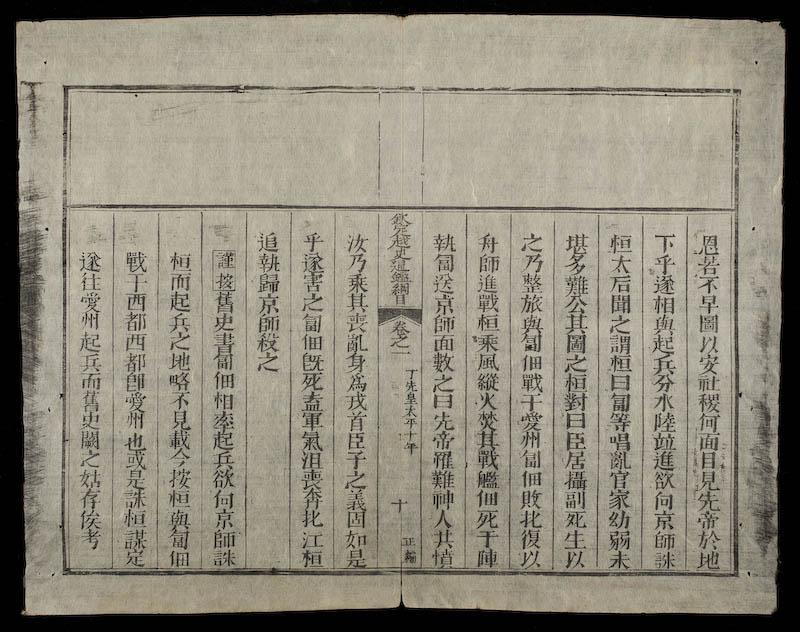c: (518, 324, 546, 352), (211, 332, 237, 362), (562, 231, 591, 257), (693, 232, 722, 255), (253, 229, 282, 252), (606, 231, 635, 254), (122, 249, 149, 273), (562, 310, 590, 333), (471, 332, 501, 353), (122, 446, 149, 469), (342, 488, 369, 511), (211, 246, 238, 269), (121, 528, 149, 550), (254, 352, 282, 374), (166, 467, 194, 489), (76, 249, 104, 271), (562, 275, 590, 297), (694, 392, 723, 413), (120, 488, 149, 509), (78, 529, 103, 553), (387, 283, 414, 305), (76, 508, 103, 530), (166, 509, 193, 531), (166, 249, 193, 271), (76, 330, 103, 352), (651, 411, 678, 433), (518, 272, 545, 294), (209, 548, 240, 567), (694, 549, 722, 570), (650, 449, 678, 470), (693, 469, 721, 490), (694, 528, 722, 549), (605, 529, 633, 550), (694, 255, 722, 276), (209, 468, 237, 489), (298, 251, 326, 272), (298, 468, 326, 489), (694, 490, 722, 511), (298, 528, 326, 549), (254, 252, 282, 273), (298, 548, 327, 568), (120, 508, 149, 528), (212, 290, 237, 313), (77, 408, 103, 430), (343, 231, 369, 253), (431, 293, 457, 315), (652, 231, 678, 253), (607, 293, 633, 315), (650, 469, 677, 490), (122, 468, 149, 489), (76, 352, 103, 373), (210, 429, 237, 450), (166, 429, 193, 450), (298, 430, 325, 451), (430, 231, 457, 252), (650, 354, 677, 375), (606, 488, 633, 509), (77, 271, 104, 292), (299, 391, 326, 412), (695, 353, 722, 374), (695, 293, 722, 314), (299, 230, 326, 251), (562, 469, 589, 490), (299, 351, 326, 372), (474, 508, 501, 529), (429, 469, 456, 490), (474, 449, 501, 470), (430, 352, 457, 373), (518, 293, 545, 314), (165, 488, 193, 508), (298, 508, 326, 528), (210, 529, 238, 549), (605, 550, 634, 569), (78, 389, 103, 411), (475, 231, 500, 253), (299, 487, 325, 508), (562, 528, 588, 549), (167, 409, 193, 430), (122, 352, 148, 373), (211, 508, 237, 529), (518, 488, 544, 509), (255, 293, 281, 314), (519, 231, 545, 252), (519, 372, 545, 393), (431, 273, 457, 294), (342, 469, 369, 489), (650, 334, 677, 354), (606, 469, 633, 489), (299, 272, 326, 292), (606, 509, 633, 529), (429, 489, 456, 509), (474, 528, 501, 548), (166, 371, 193, 391), (606, 334, 633, 354), (607, 254, 634, 274), (254, 333, 281, 353), (76, 488, 103, 508), (606, 431, 633, 451), (606, 450, 633, 470), (695, 412, 722, 432), (76, 468, 103, 488), (650, 254, 677, 274), (210, 488, 237, 508), (562, 489, 589, 509), (651, 274, 678, 294), (562, 391, 589, 411), (255, 273, 282, 293), (694, 510, 722, 529), (650, 295, 678, 314), (167, 528, 192, 549), (563, 430, 588, 451), (77, 429, 102, 450), (122, 391, 147, 412), (519, 448, 544, 469), (518, 528, 543, 549), (475, 410, 500, 431), (476, 253, 501, 274), (167, 291, 192, 312), (651, 314, 677, 334), (563, 254, 589, 274), (430, 548, 456, 568), (123, 292, 149, 312), (519, 252, 545, 272), (343, 333, 369, 353), (210, 410, 236, 430), (122, 372, 148, 392), (122, 332, 148, 352), (299, 293, 325, 313), (166, 351, 192, 371), (518, 411, 544, 431), (474, 548, 500, 568), (563, 333, 589, 353), (343, 548, 369, 568), (607, 412, 633, 432), (651, 510, 677, 530), (562, 549, 588, 569), (431, 252, 457, 272), (607, 392, 633, 412), (166, 312, 192, 332), (123, 311, 149, 331), (475, 293, 501, 313), (343, 313, 369, 333), (695, 432, 722, 451), (474, 489, 501, 508), (299, 372, 326, 391), (651, 550, 678, 569), (342, 529, 369, 548), (210, 449, 237, 468), (298, 450, 325, 469), (562, 354, 589, 373), (474, 313, 501, 332), (606, 354, 634, 372), (344, 411, 368, 432), (650, 432, 678, 450), (694, 374, 722, 392), (694, 276, 722, 294), (78, 292, 103, 312), (122, 431, 147, 451), (212, 271, 237, 291), (431, 528, 456, 548), (211, 370, 236, 390), (299, 313, 324, 333), (651, 490, 676, 510), (696, 313, 721, 333), (343, 353, 368, 373), (211, 390, 236, 410), (431, 411, 456, 431), (344, 273, 369, 293), (122, 548, 148, 567), (474, 430, 500, 449), (607, 315, 633, 334), (562, 450, 588, 469), (431, 315, 457, 334), (166, 332, 192, 351), (517, 549, 543, 568), (607, 274, 633, 293), (562, 509, 588, 528), (167, 272, 193, 291), (255, 314, 281, 333), (519, 353, 545, 372), (519, 469, 545, 488), (299, 410, 325, 429), (167, 549, 193, 568), (651, 392, 677, 411), (123, 273, 149, 292), (563, 411, 589, 430), (607, 372, 633, 391), (518, 509, 544, 528), (343, 392, 369, 411), (475, 352, 501, 371), (430, 374, 456, 393), (430, 450, 456, 469), (475, 372, 501, 391), (562, 373, 589, 391), (518, 393, 545, 411), (79, 309, 102, 330), (476, 273, 500, 293), (696, 334, 721, 353), (343, 450, 368, 469), (343, 509, 368, 528), (344, 253, 369, 272), (475, 470, 500, 489), (211, 313, 236, 332), (344, 293, 369, 312), (430, 431, 455, 450), (518, 316, 544, 334), (651, 374, 677, 392), (651, 531, 677, 549), (167, 449, 193, 467), (431, 334, 457, 352), (77, 373, 104, 390), (696, 450, 720, 469), (344, 432, 368, 451), (123, 410, 147, 429), (431, 509, 455, 528), (344, 373, 368, 392), (300, 333, 325, 351), (431, 392, 456, 410), (167, 391, 192, 409), (77, 450, 102, 468), (518, 430, 543, 448), (474, 392, 499, 410), (386, 232, 415, 247), (562, 296, 589, 312), (387, 496, 410, 514), (212, 353, 236, 370), (388, 319, 413, 335), (387, 211, 415, 225), (387, 248, 415, 260), (386, 260, 412, 272), (387, 226, 413, 237), (387, 349, 414, 359), (390, 336, 412, 348), (388, 272, 414, 282), (402, 548, 418, 564), (401, 441, 419, 455), (402, 365, 418, 380), (402, 416, 418, 429), (400, 534, 416, 547), (401, 405, 418, 417), (403, 379, 418, 392), (403, 392, 419, 404), (403, 430, 419, 441)
